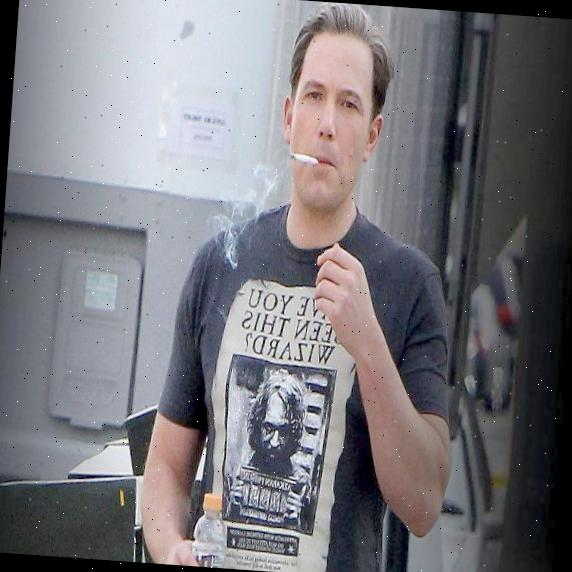smoke: (208, 167, 282, 267)
